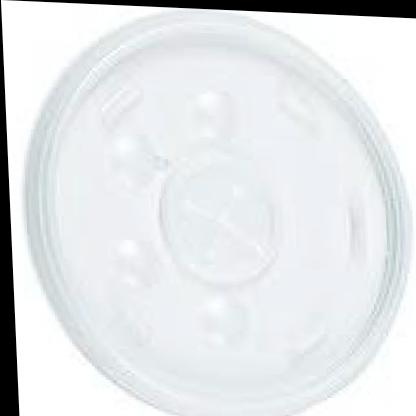Miscellaneous: (0, 10, 414, 416)
